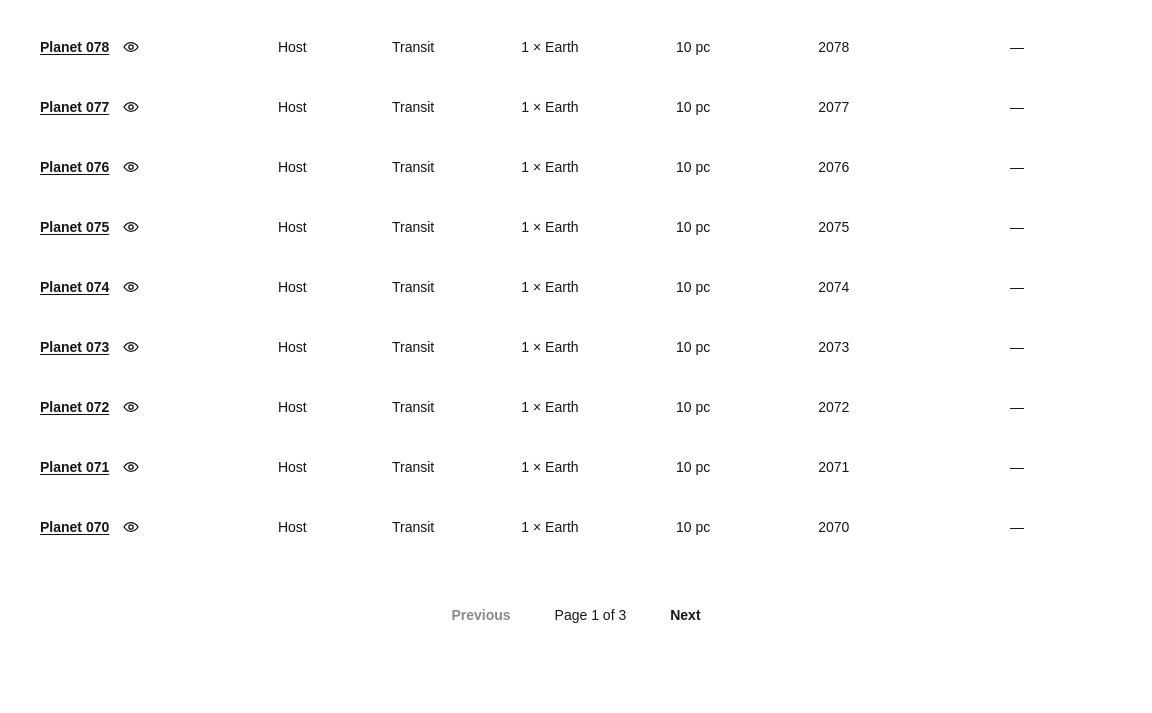
Test: ExploreClient pagination › returns to the first page when the filter changes under a later page
The width and height of the screenshot is (1152, 713).
(page scrolled)
Click the button "Next" at (685, 615), box x1=650 y1=597 x2=721 y2=633
(page scrolled)
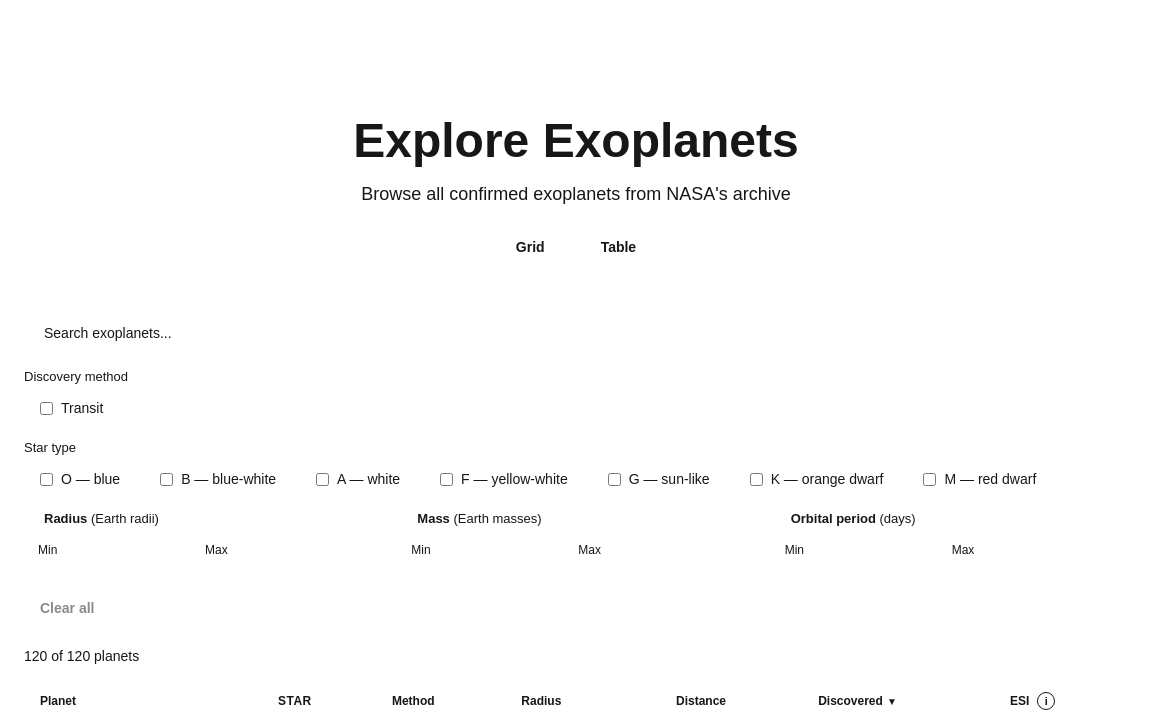
Type "Planet 0" into the field named "search by planet or host star" at (576, 333), box x1=24 y1=313 x2=1128 y2=353
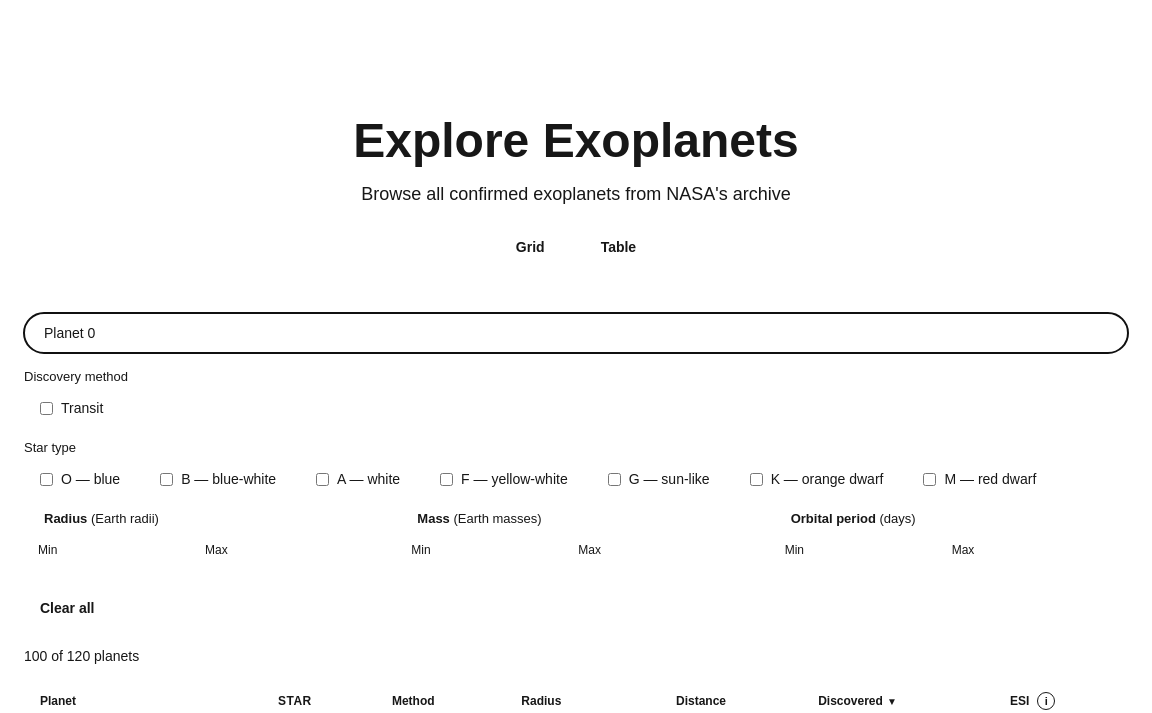
Expected: the text "100 of 120 planets" is shown, x1=24 y1=648 x2=139 y2=664
